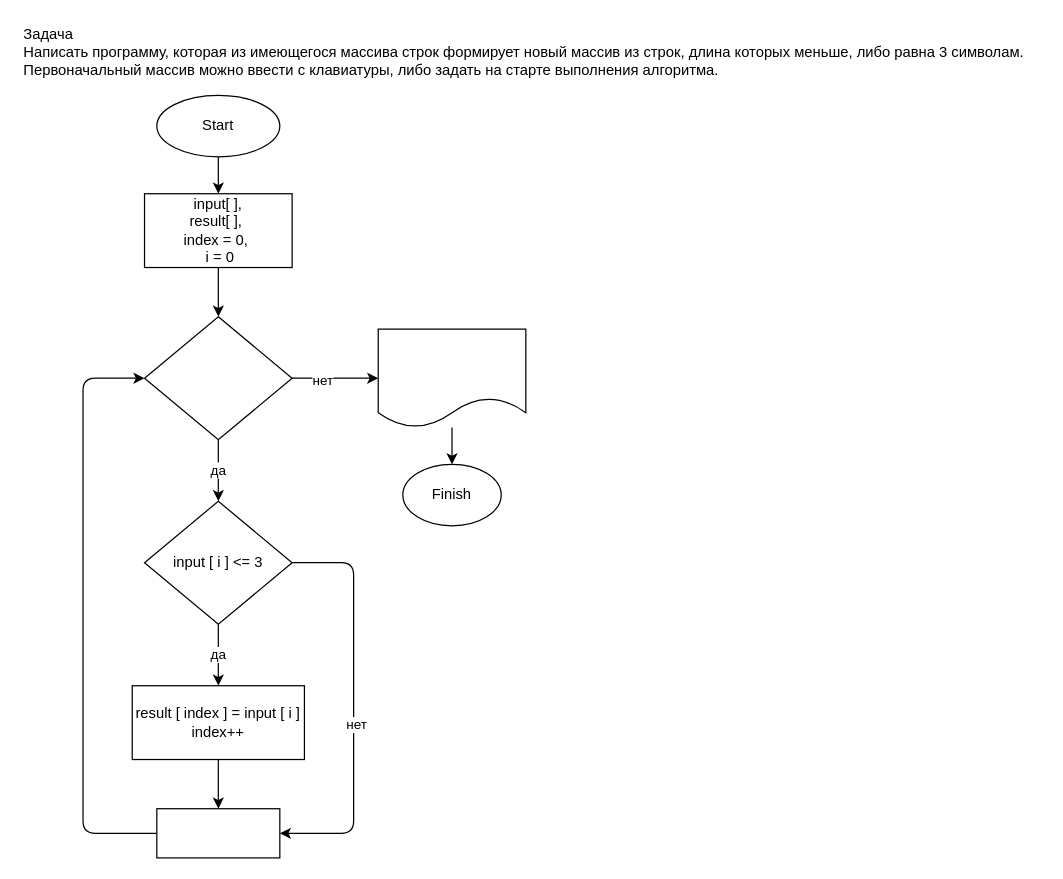
The diagram is 1063 pixels wide and 879 high, and some of its shapes have lost their labels. Each missing label, with the centre of its shape:
i < input.Length: (x=217, y=377)
i++: (x=218, y=832)
result[ ]: (x=451, y=377)
